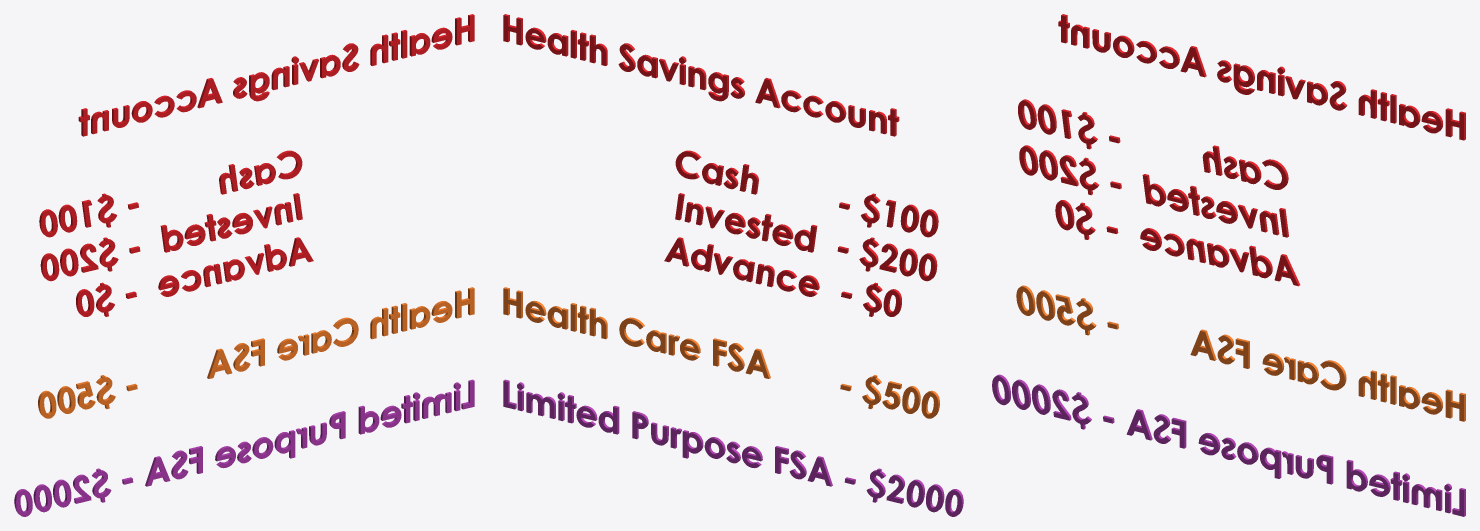
The model's file is fifteen.fbx.
3 renders of one model, left to right at view 1: azimuth 30°, elevation 25°; view 2: azimuth 150°, elevation 25°; view 3: azimuth 330°, elevation 25°, orthographic. The views are drawn at different scales.
Visible parts, largest first — view 1: node_id42 (×8); view 2: node_id42 (×8); view 3: node_id42 (×8).
Boxes of the visible parts, x1,y1,x2,y2 form: node_id42 (×8): [14, 14, 474, 516]; node_id42 (×8): [503, 14, 963, 516]; node_id42 (×8): [992, 14, 1465, 516].
Bounding box in the file's own units: 4.92 × 4.1 × 0.0321.
